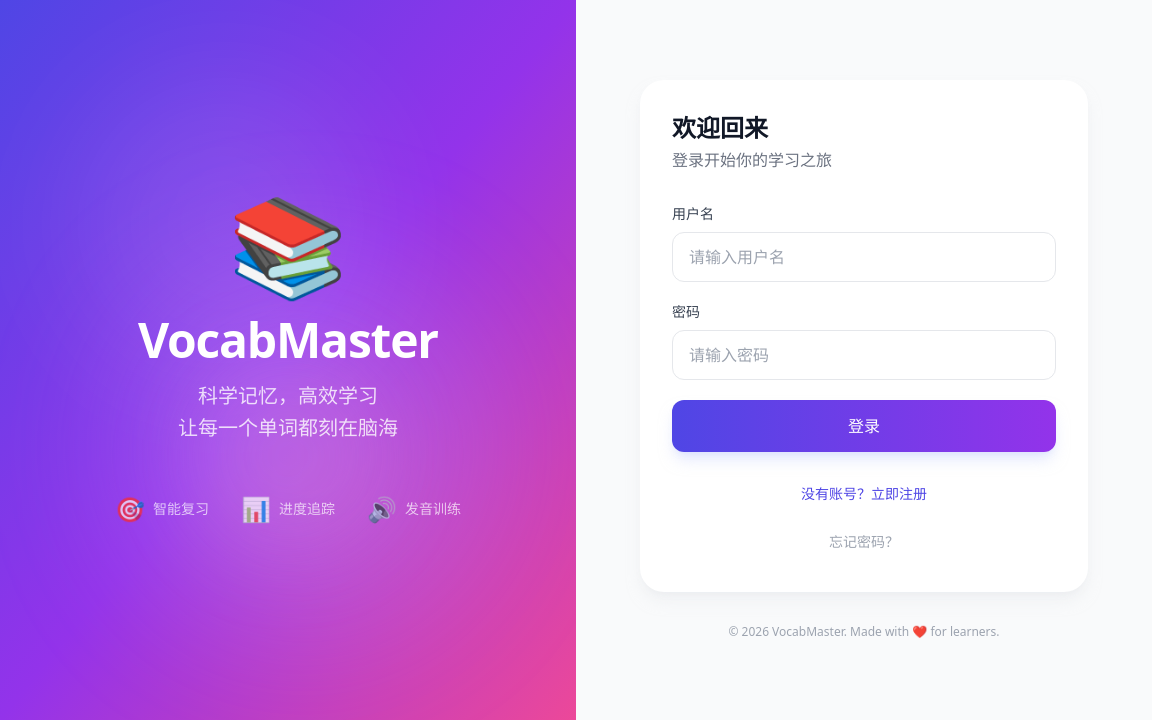
Test: LoginPanel Component - REQ-UI-001 › REQ-UI-001: Form Display and Toggle › REQ-UI-001: should toggle to register form when clicking register link
// Click "没有账号？点击注册"
Click the button "没有账号？立即注册": (864, 494) [672,476,1056,512]
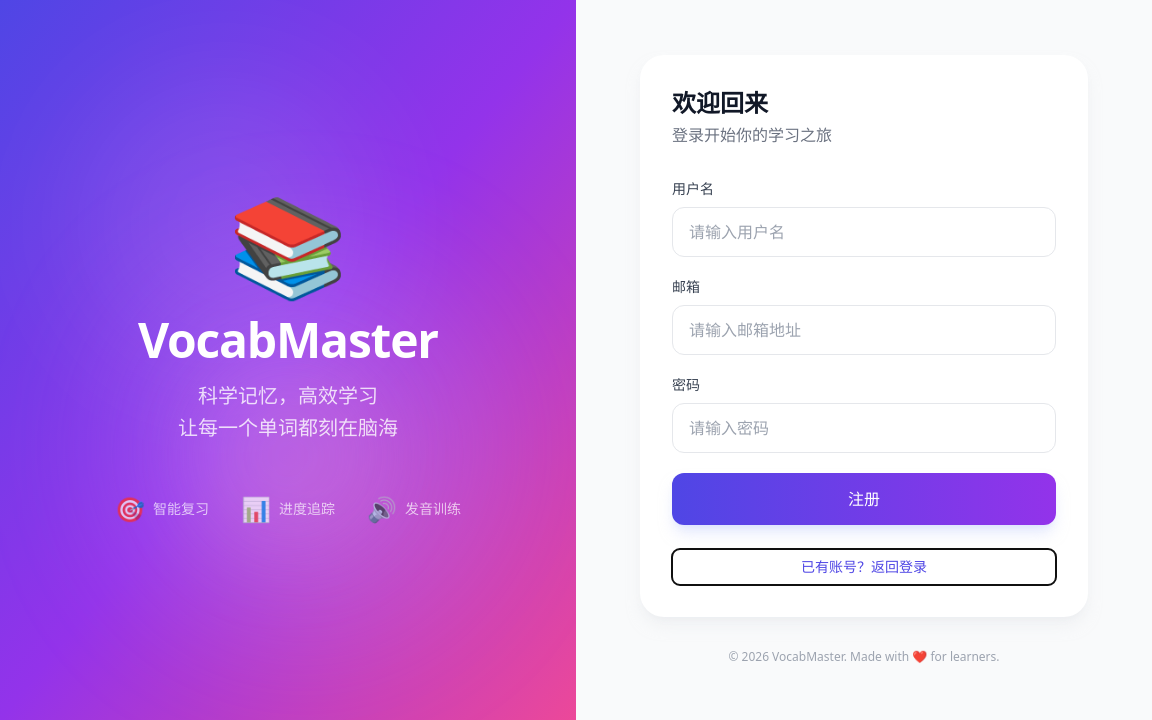
Check: the text "邮箱" is shown, box [672,277,700,296]
Check: the button "注册" is shown, box [672,473,1056,525]
Check: the button "已有账号？返回登录" is shown, box [672,549,1056,585]
